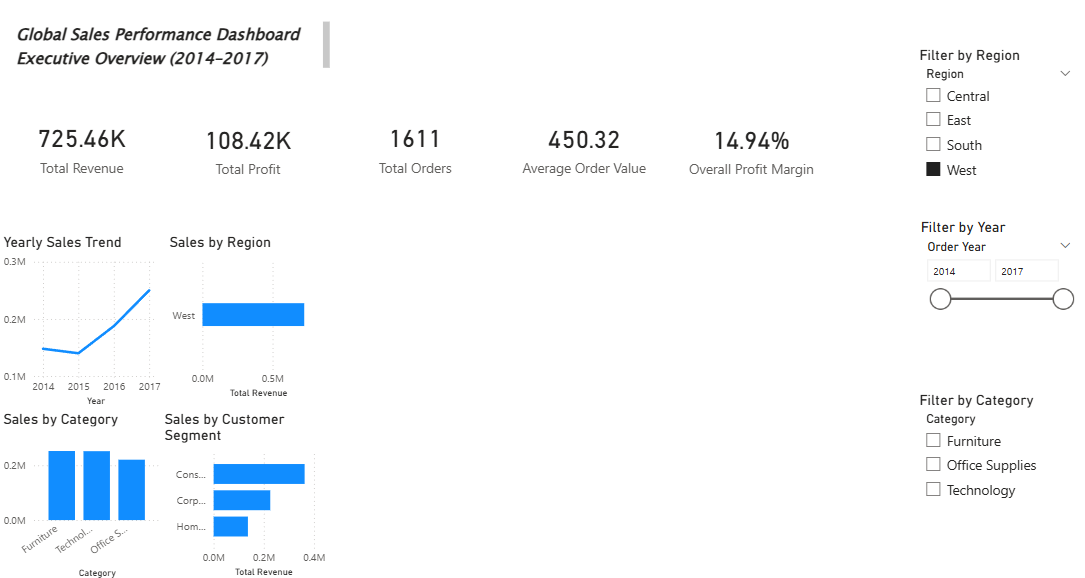

The dashboard page shown, as its layout file describes it:
{"tool":"powerbi","page":{"name":"Page 1","canvas":[1280,720],"ordinal":0},"visuals":[{"type":"card","fields":{"Values":["cleaned_superstore.Total Revenue"]},"box":[0,106.3,195,203.8],"z":0},{"type":"card","fields":{"Values":["cleaned_superstore.Total Profit"]},"box":[195,107.6,195,203.8],"z":1000},{"type":"card","fields":{"Values":["cleaned_superstore.Total Orders"]},"box":[390,106.3,200,203.8],"z":2000},{"type":"card","fields":{"Values":["cleaned_superstore.Average Order Value"]},"box":[590,107.6,197.5,202.5],"z":3000},{"type":"lineChart","title":"Yearly Sales Trend","fields":{"Category":["cleaned_superstore.Order Date.Variation.Date Hierarchy.Year","cleaned_superstore.Order Date.Variation.Date Hierarchy.Quarter","cleaned_superstore.Order Date.Variation.Date Hierarchy.Month","cleaned_superstore.Order Date.Variation.Date Hierarchy.Day"],"Y":["cleaned_superstore.Total Revenue"]},"box":[0,310.1,195,207.5],"z":4000},{"type":"clusteredBarChart","title":"Sales by Region","fields":{"Category":["cleaned_superstore.Region"],"Y":["cleaned_superstore.Total Revenue"]},"box":[195,310.1,195,198.8],"z":5000},{"type":"clusteredColumnChart","title":"Sales by Category","fields":{"Category":["cleaned_superstore.Category"],"Y":["cleaned_superstore.Total Revenue"]},"box":[0,517.6,195,202.5],"z":6000},{"type":"card","title":"Profit Margin","fields":{"Values":["cleaned_superstore.Overall Profit Margin"]},"box":[788.2,107.4,194.1,204.4],"z":8000},{"type":"clusteredBarChart","title":"Sales by Customer Segment","fields":{"Category":["cleaned_superstore.Segment"],"Y":["cleaned_superstore.Total Revenue"]},"box":[189.7,517.6,200,201.5],"z":10000},{"type":"slicer","title":"Filter by Year","fields":{"Values":["cleaned_superstore.Order Year"]},"box":[1079.4,292.6,194.1,202.9],"z":12000},{"type":"slicer","title":"Filter by Region","fields":{"Values":["cleaned_superstore.Region"]},"box":[1077.9,89.7,195.6,202.9],"z":13000},{"type":"slicer","title":"Filter by Category","fields":{"Values":["cleaned_superstore.Category"]},"box":[1077.9,495.6,195.6,202.9],"z":14000},{"type":"textbox","box":[14.7,55.9,379.4,66.2],"z":14001}]}

Visuals, with their boxes on the page's 1280x720 design canvas (x1, y1, x2, y2). These are canvas units, not pixel positions in the 1085x578 screenshot, which may show the page scaled, cropped or inside an application window:
card - cleaned_superstore.Total Revenue: x1=0, y1=106, x2=195, y2=310
card - cleaned_superstore.Total Profit: x1=195, y1=108, x2=390, y2=311
card - cleaned_superstore.Total Orders: x1=390, y1=106, x2=590, y2=310
card - cleaned_superstore.Average Order Value: x1=590, y1=108, x2=788, y2=310
"Yearly Sales Trend" lineChart: x1=0, y1=310, x2=195, y2=518
"Sales by Region" clusteredBarChart: x1=195, y1=310, x2=390, y2=509
"Sales by Category" clusteredColumnChart: x1=0, y1=518, x2=195, y2=720
"Profit Margin" card: x1=788, y1=107, x2=982, y2=312
"Sales by Customer Segment" clusteredBarChart: x1=190, y1=518, x2=390, y2=719
"Filter by Year" slicer: x1=1079, y1=293, x2=1274, y2=496
"Filter by Region" slicer: x1=1078, y1=90, x2=1274, y2=293
"Filter by Category" slicer: x1=1078, y1=496, x2=1274, y2=698
textbox: x1=15, y1=56, x2=394, y2=122
